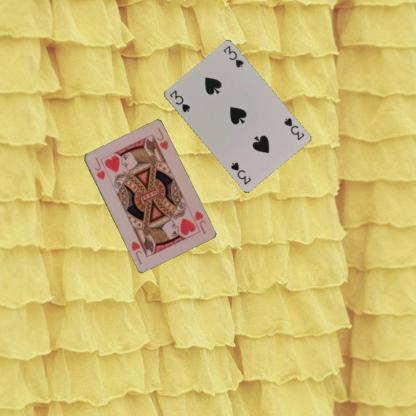3s: (281, 115, 306, 142), (166, 88, 192, 113)
Jh: (186, 208, 208, 235), (92, 154, 106, 181)
